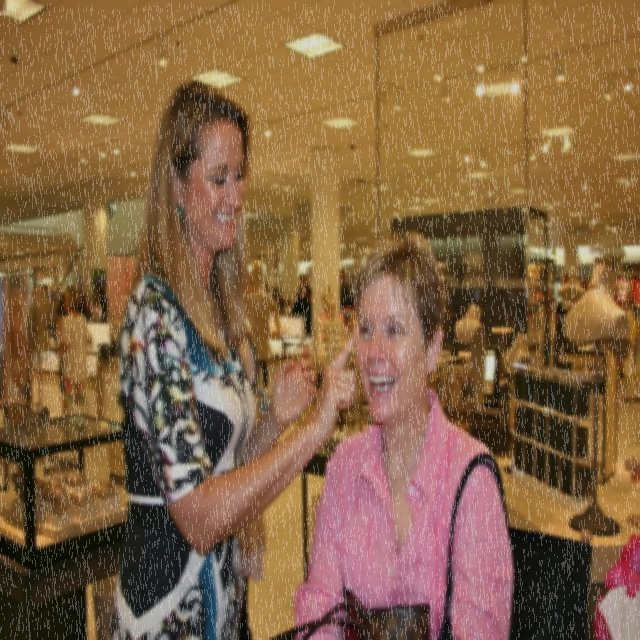pessoa: (101, 71, 360, 639), (290, 227, 516, 639), (505, 240, 532, 478), (246, 255, 282, 397), (54, 284, 92, 418), (54, 290, 84, 418), (3, 275, 30, 387), (473, 276, 505, 342), (554, 264, 570, 349), (290, 282, 312, 336), (339, 268, 358, 324), (96, 284, 110, 324), (79, 287, 88, 322), (282, 295, 294, 318), (306, 287, 312, 302)
